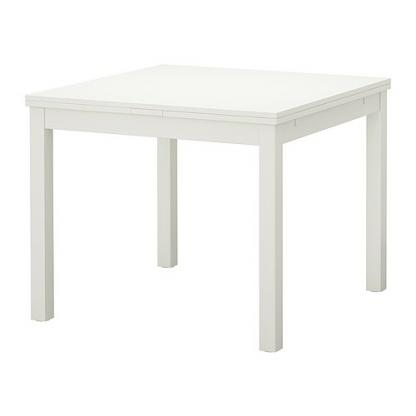Table: (22, 56, 395, 357)
